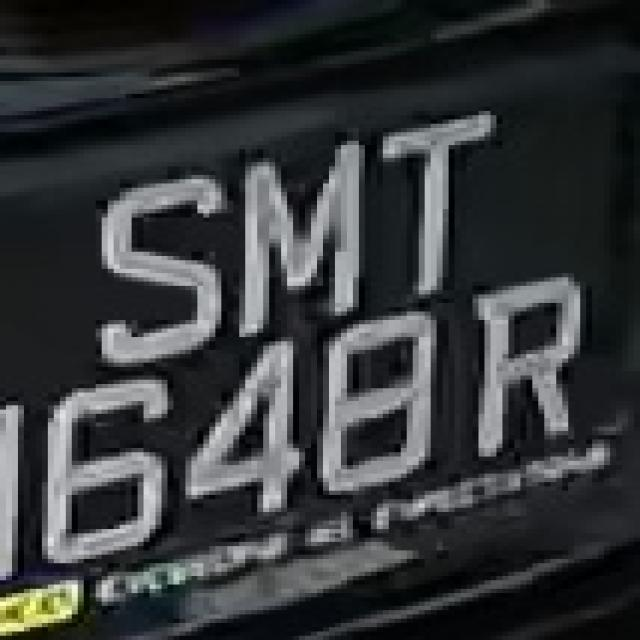4: (173, 337, 329, 525)
6: (36, 371, 179, 572)
8: (299, 299, 455, 495)
M: (215, 120, 371, 328)
R: (455, 260, 592, 470)
S: (84, 154, 239, 367)
T: (347, 111, 514, 286)
